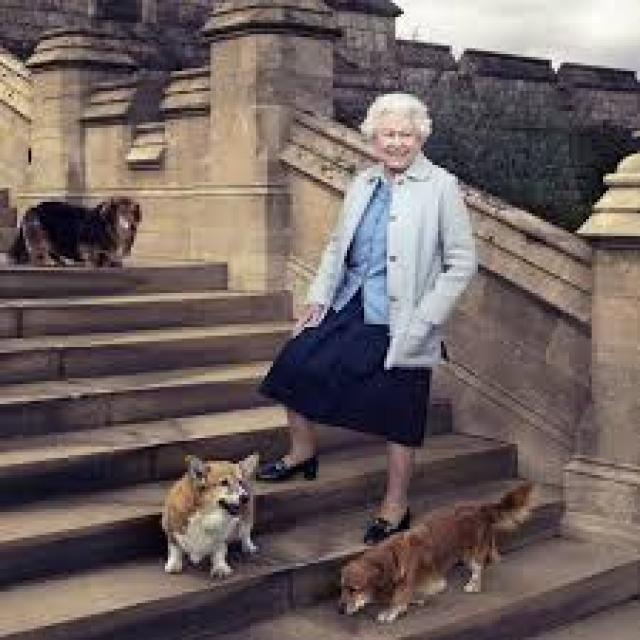CORGI: (166, 438, 268, 584)
